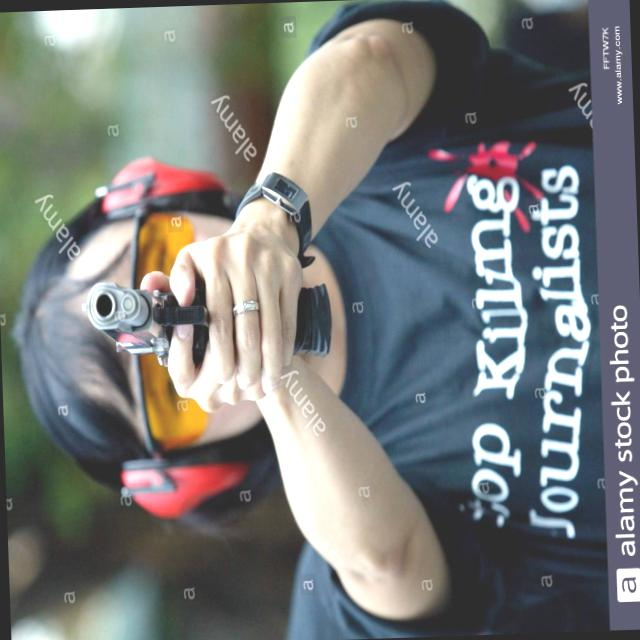handgun: (83, 234, 340, 396)
